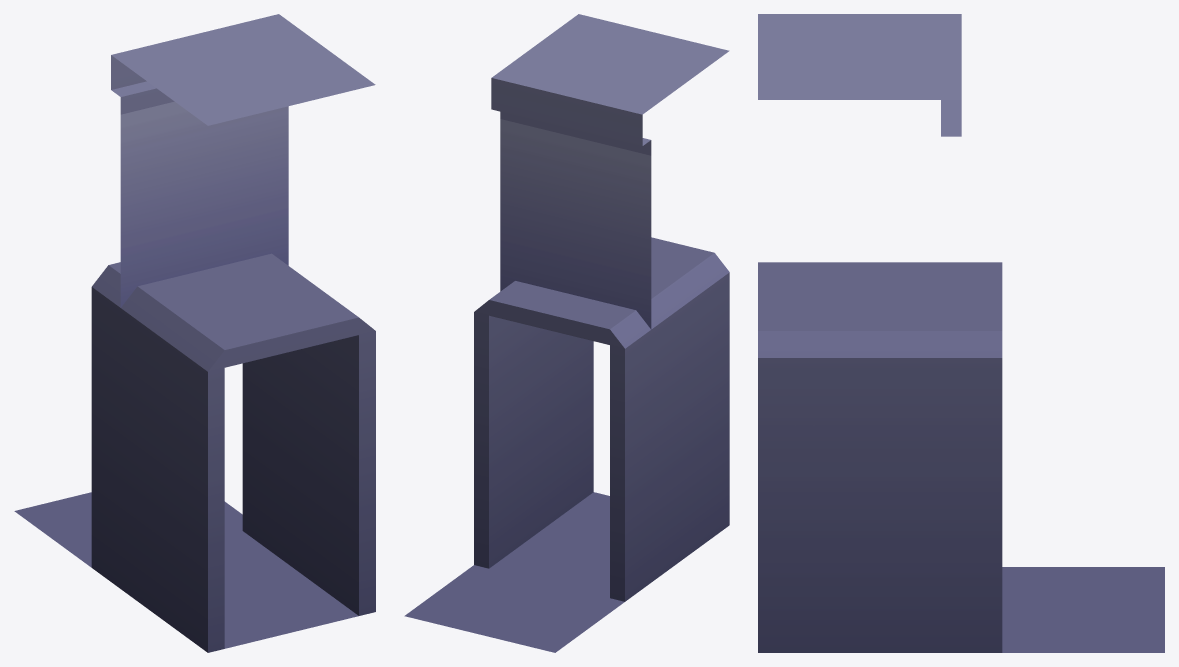
The model's file is structure-doorway.glb.
3 renders of one model, left to right at view 1: azimuth 30°, elevation 25°; view 2: azimuth 150°, elevation 25°; view 3: azimuth 270°, elevation 25°, orthographic. The views are drawn at different scales.
Parts seen in each view (by area): view 1: structure-doorway; view 2: structure-doorway; view 3: structure-doorway.
Part boxes in pixels (x1,y1,x2,y2): structure-doorway: [14, 14, 375, 652]; structure-doorway: [404, 14, 729, 652]; structure-doorway: [758, 14, 1164, 652].
Size of the model in its own units: 0.9999 by 3 by 2.
Materials: 1 (1 with a texture image).
